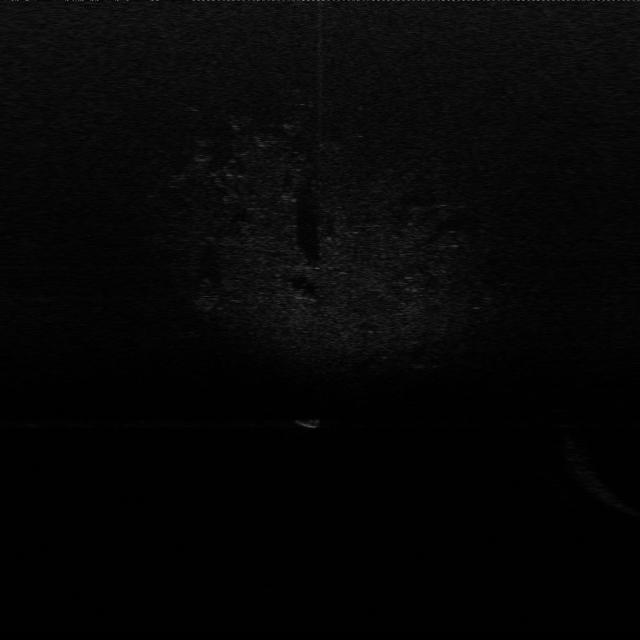square cage: (292, 411, 326, 432)
